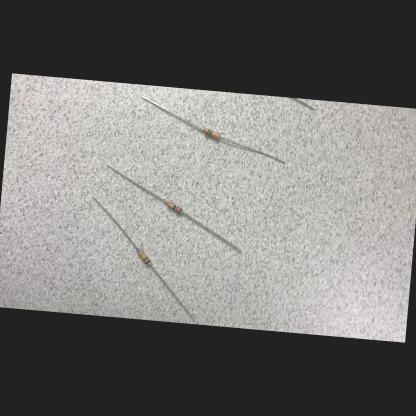resistor: (137, 251, 152, 266), (166, 202, 182, 214), (203, 129, 220, 139)
wire: (88, 196, 142, 252), (146, 264, 197, 320), (102, 164, 170, 204), (179, 212, 243, 252), (138, 96, 204, 131), (218, 136, 286, 164), (288, 98, 314, 110)
